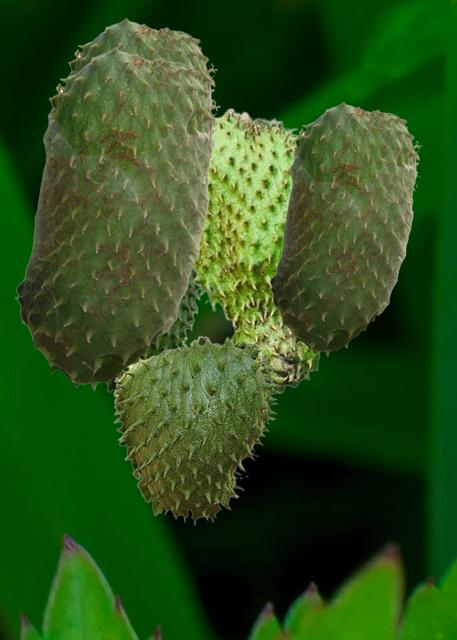guyabano: (14, 46, 219, 389), (268, 101, 420, 355), (192, 107, 320, 393), (113, 335, 280, 525), (67, 17, 216, 105), (106, 271, 199, 392)
